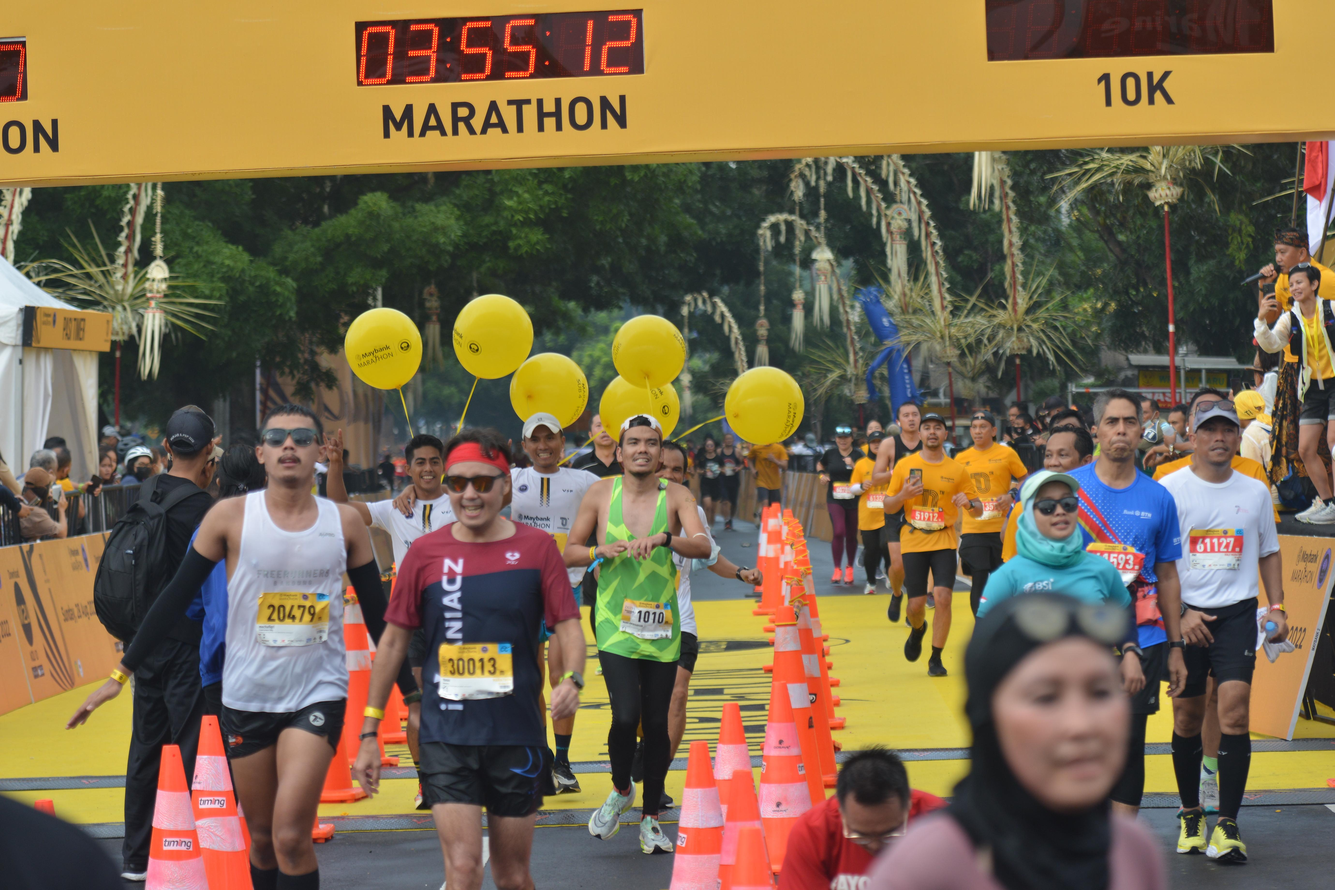bib: (437, 645, 513, 700), (255, 594, 329, 645), (1189, 530, 1243, 572), (620, 599, 672, 639), (1089, 545, 1141, 585), (912, 505, 944, 530), (979, 499, 1002, 518), (832, 483, 855, 499), (868, 492, 885, 508)
